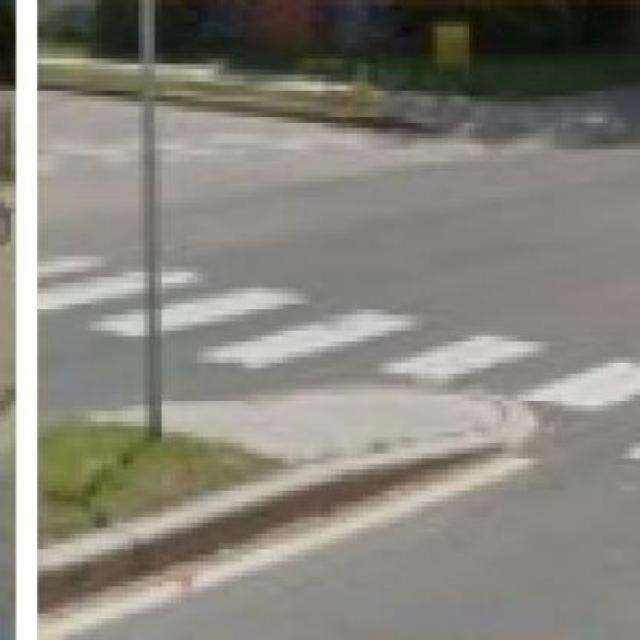crosswalk: (41, 254, 640, 461)
